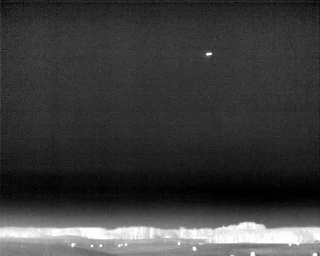AIRPLANE: (204, 50, 214, 59)
